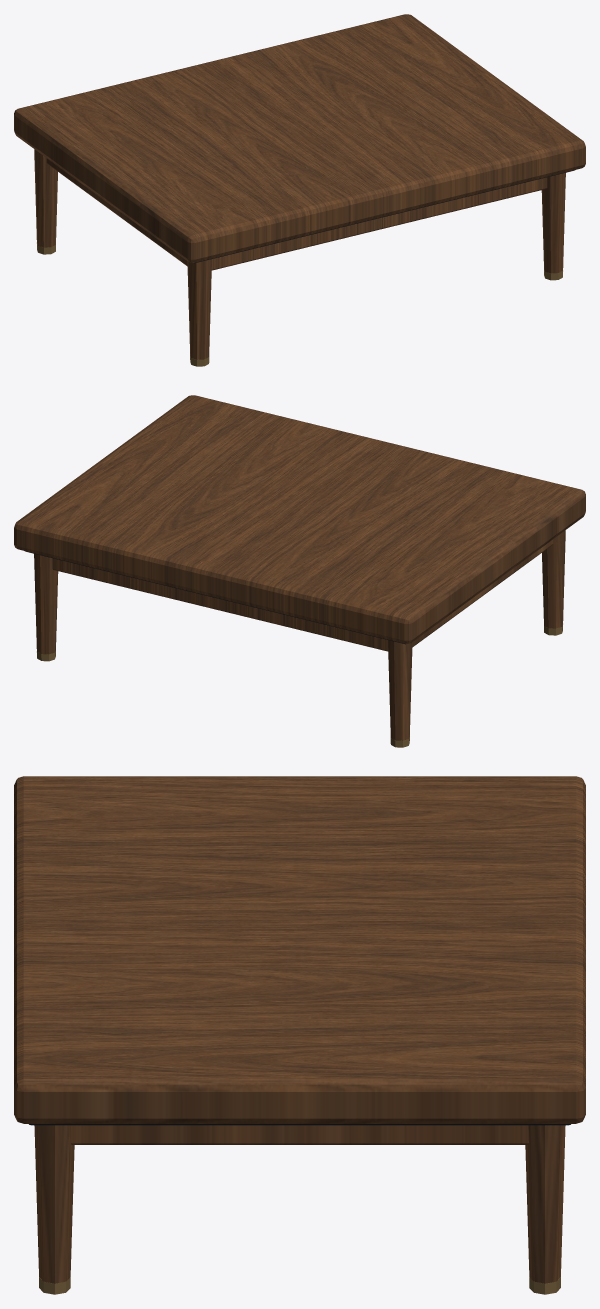
The model's file is desk.fbx.
The picture shows the model from 3 angles, top to bottom: view 1: azimuth 30°, elevation 25°; view 2: azimuth 150°, elevation 25°; view 3: azimuth 270°, elevation 25°; orthographic projection. The views are drawn at different scales.
Parts seen in each view (by area): view 1: desk; view 2: desk; view 3: desk.
Part boxes in pixels (x1=…): desk: x1=14, y1=14, x2=585, y2=366; desk: x1=14, y1=395, x2=585, y2=747; desk: x1=14, y1=776, x2=585, y2=1294.
Size of the model in its own units: 9 by 3 by 7.
1 material, 1 textured.
